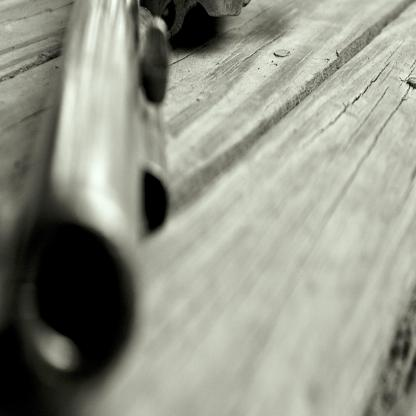gun: (0, 0, 347, 402)
